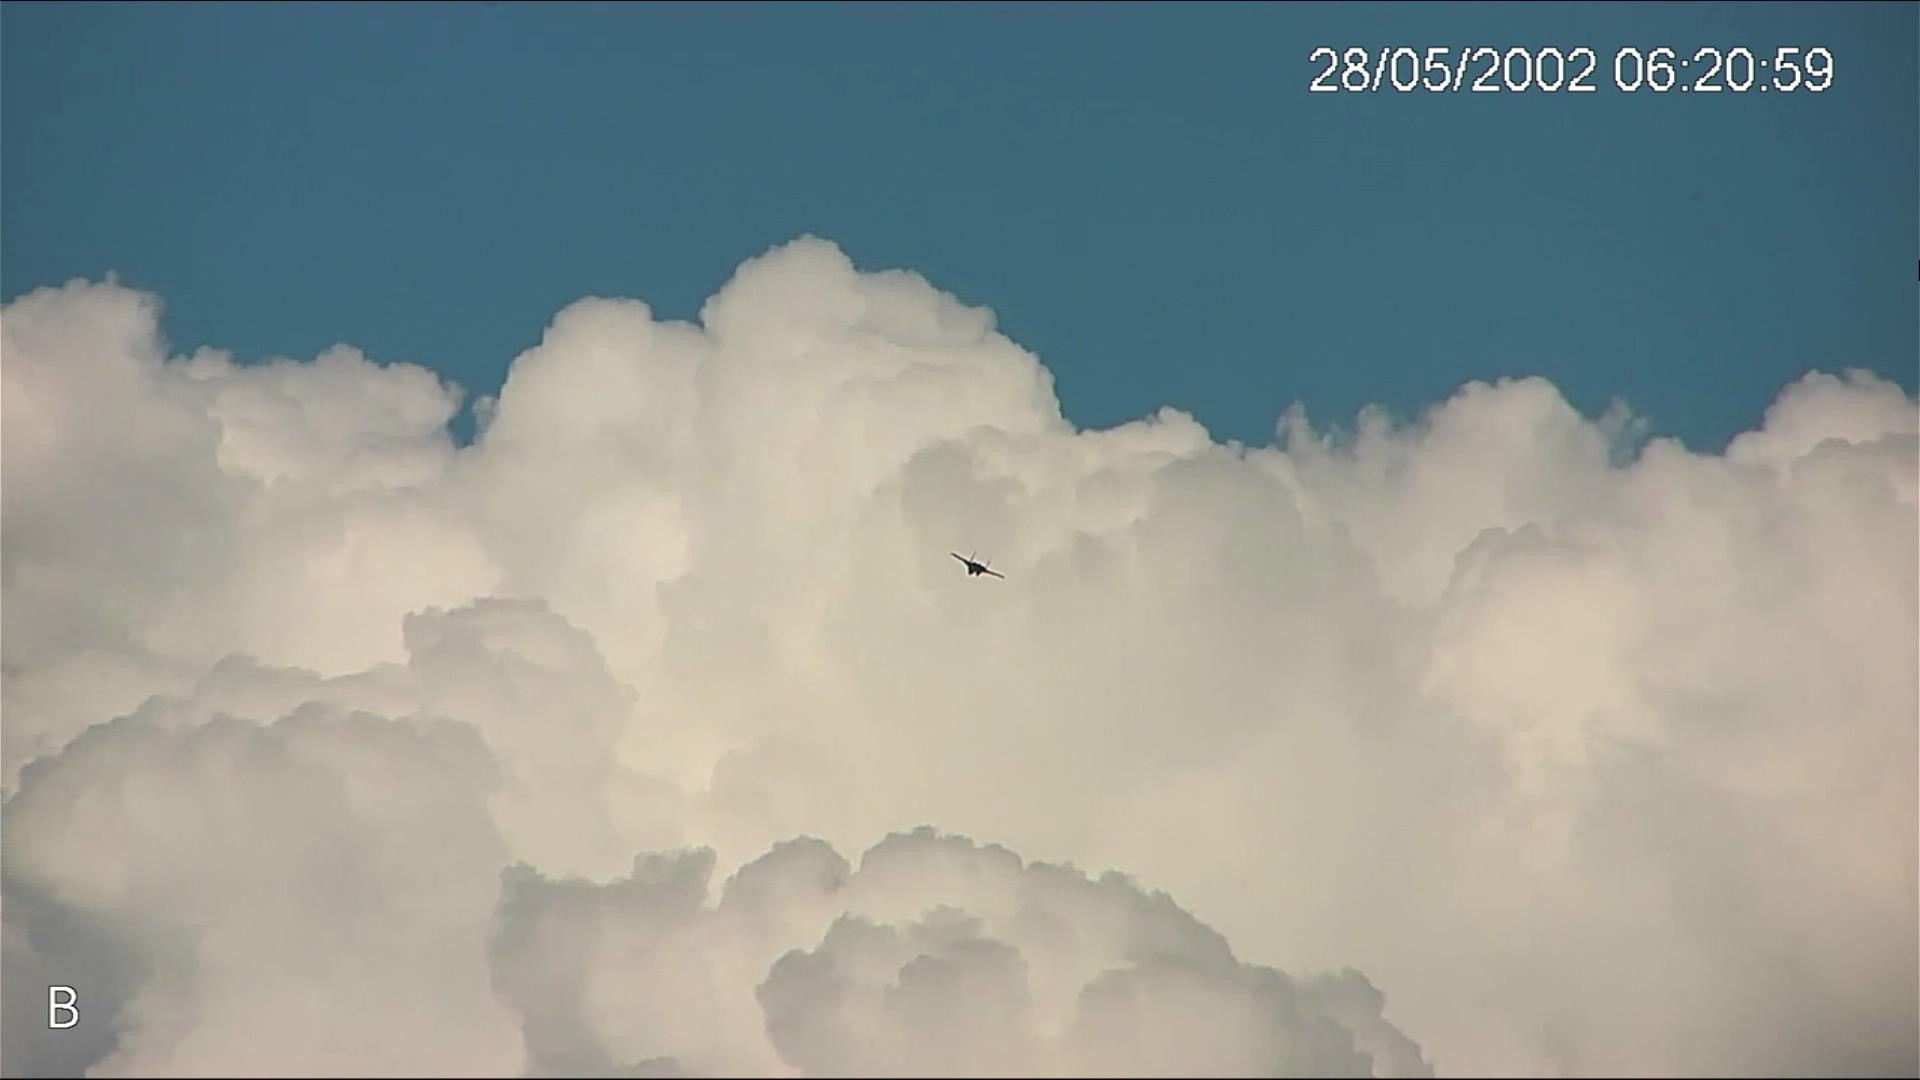SU_30: (947, 547, 1010, 587)
